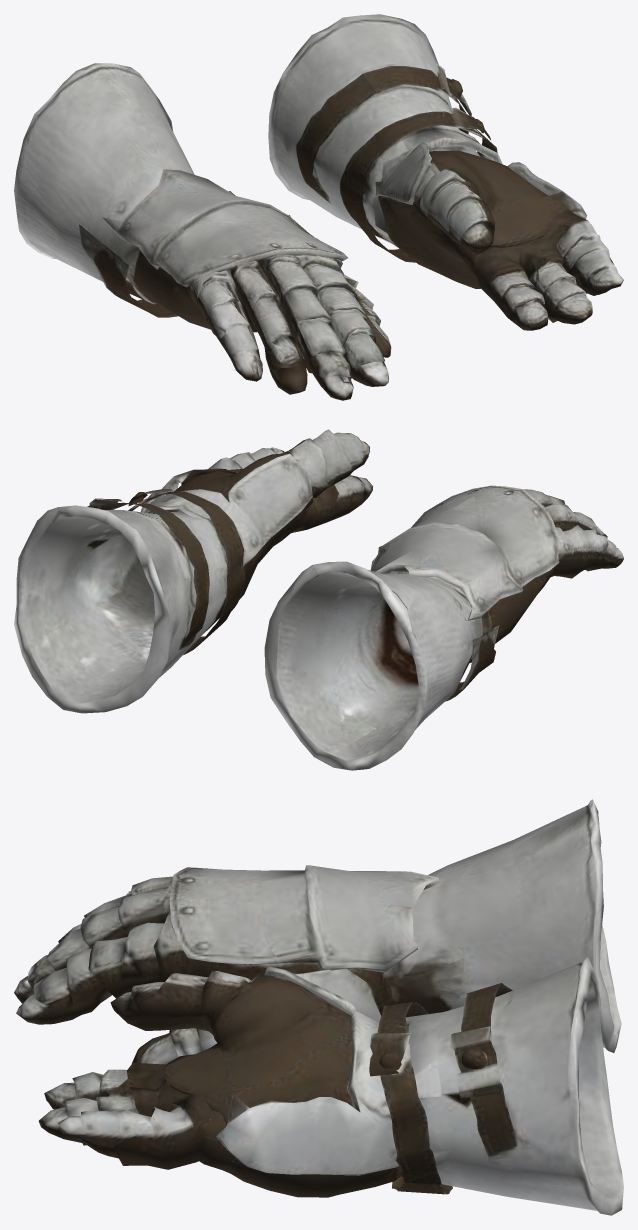
File: iron_gauntlets.glb
3 renders of one model, top to bottom at view 1: azimuth 30°, elevation 25°; view 2: azimuth 150°, elevation 25°; view 3: azimuth 270°, elevation 25°, orthographic. The views are drawn at different scales.
Visible parts, largest first — view 1: iron_gauntlets; view 2: iron_gauntlets; view 3: iron_gauntlets.
Boxes of the visible parts, left/top/right/bottom form: iron_gauntlets: left=14, top=14, right=623, bottom=400; iron_gauntlets: left=14, top=429, right=623, bottom=770; iron_gauntlets: left=14, top=799, right=623, bottom=1215.
Bounding box in the file's own units: 0.3479 × 0.1641 × 0.3702.
Materials: 1 (1 with a texture image).
